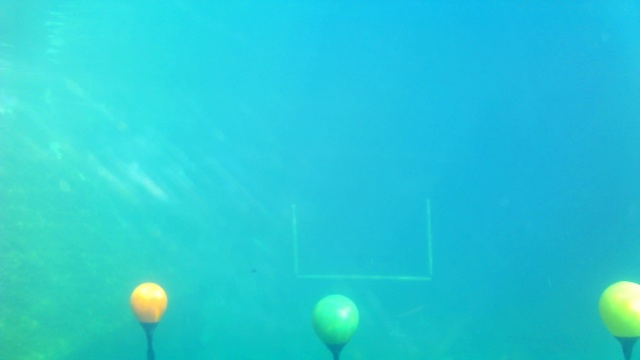buoy_green: (310, 292, 359, 358)
buoy_red: (128, 283, 167, 335)
channel: (290, 198, 435, 284)
